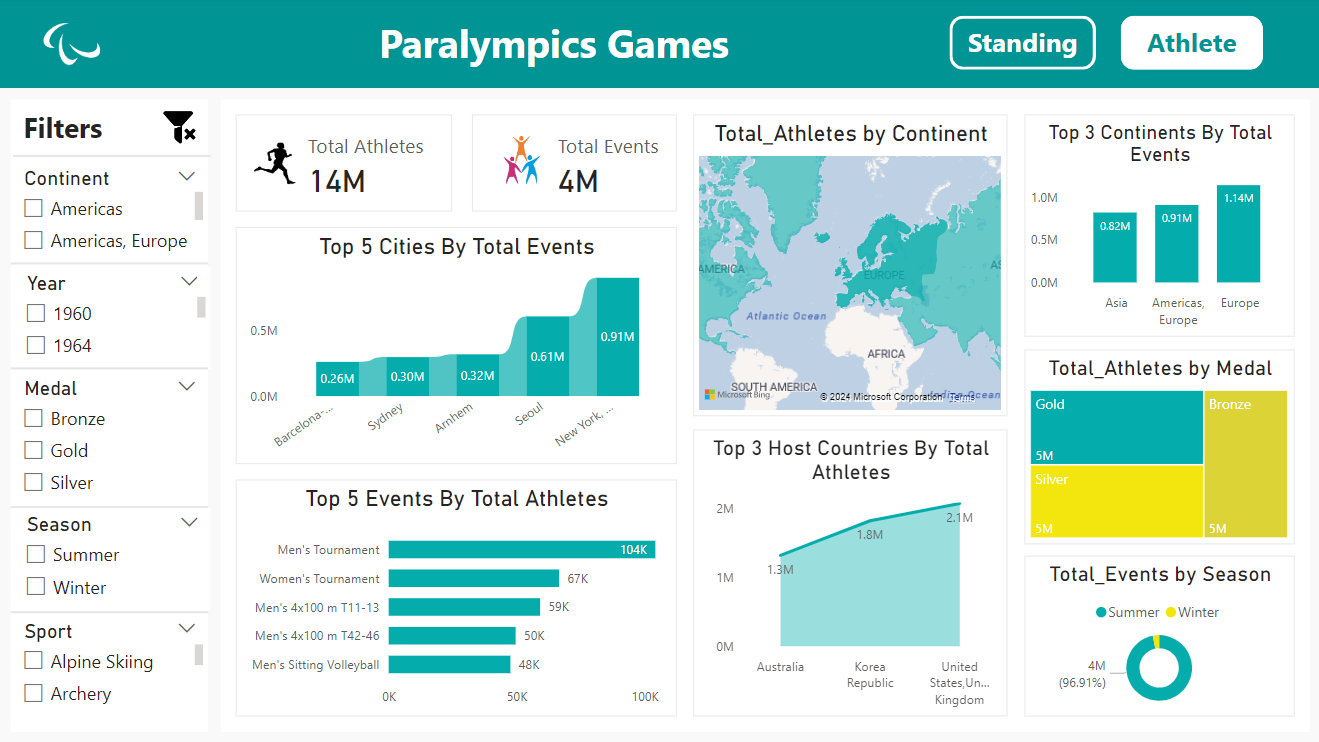

What the dashboard file says about the page in this screenshot:
{"tool":"powerbi","page":{"name":"Athlete","canvas":[1280,720],"ordinal":1},"visuals":[{"type":"shape","box":[0,0,1280.3,87.8],"z":0},{"type":"image","box":[0,0,141.3,87.8],"z":1000},{"type":"shape","box":[253.9,0,568.1,87.8],"z":2000},{"type":"shape","box":[13.7,98.8,190.7,610.6],"z":3000},{"type":"shape","box":[215.4,98.8,1051.1,610.6],"z":4000},{"type":"cardVisual","fields":{"Data":["Key_Measures.Total_Athletes"]},"box":[230.5,113.9,208.6,93.3],"z":5000},{"type":"cardVisual","fields":{"Data":["Key_Measures.Total_Events"]},"box":[458.3,113.9,197.6,93.3],"z":6000},{"type":"ribbonChart","title":"Top 5 Cities By Total Events","fields":{"Category":["dim_city.City"],"Y":["Key_Measures.Total_Events"]},"box":[230.5,222.3,425.4,229.2],"z":7000},{"type":"barChart","title":"Top 5 Events By Total Athletes","fields":{"Category":["fact_athlete.Event_name"],"Y":["Key_Measures.Total_Athletes"]},"box":[230.5,465.2,425.4,229.2],"z":8000},{"type":"textbox","box":[13.7,104.3,190.7,43.9],"z":9000},{"type":"shape","box":[15.1,131.7,190.7,32.9],"z":10000},{"type":"slicer","fields":{"Values":["dim_continent.Continent"]},"box":[13.7,159.2,190.7,98.8],"z":11000},{"type":"shape","box":[13.7,251.1,190.7,12.3],"z":12000},{"type":"slicer","fields":{"Values":["fact_athlete.Year"]},"box":[15.1,260.7,190.7,98.8],"z":13000},{"type":"slicer","fields":{"Values":["dim_medal.Medal"]},"box":[13.7,362.3,190.7,129],"z":14000},{"type":"shape","box":[13.7,352.7,190.7,12.3],"z":15000},{"type":"shape","box":[13.7,485.8,190.7,12.3],"z":16000},{"type":"slicer","fields":{"Values":["dim_season.Season"]},"box":[15.1,494,190.7,98.8],"z":17000},{"type":"shape","box":[13.7,587.3,190.7,12.3],"z":18000},{"type":"slicer","fields":{"Values":["dim_sport.Sport"]},"box":[13.7,595.5,190.7,98.8],"z":19000},{"type":"filledMap","fields":{"Category":["dim_continent.Continent"]},"box":[672.4,113.9,303.3,290.9],"z":20000},{"type":"areaChart","title":"Top 3 Host Countries By Total Athletes","fields":{"Category":["dim_host_country.Host_country"],"Y":["Key_Measures.Total_Athletes"]},"box":[672.4,417.2,303.3,277.2],"z":21000},{"type":"treemap","fields":{"Values":["Key_Measures.Total_Athletes"],"Group":["dim_medal.Medal"]},"box":[992.1,340.3,260.7,188],"z":22000},{"type":"donutChart","fields":{"Category":["dim_season.Season"],"Y":["Key_Measures.Total_Events"]},"box":[992.1,539.3,260.7,155.1],"z":23000},{"type":"columnChart","title":"Top 3 Continents By Total Events","fields":{"Category":["dim_continent.Continent"],"Y":["Key_Measures.Total_Events"]},"box":[992.1,113.9,260.7,214.1],"z":24000},{"type":"actionButton","box":[919.4,17.8,141.3,52.1],"z":25000},{"type":"actionButton","box":[1084.1,17.8,137.2,52.1],"z":26000},{"type":"image","box":[155.1,101.5,41.2,48],"z":27000}]}

Visuals, with their boxes in screenshot pixels (x1, y1, x2, y2), scaled from the page's 1280x720 canvas onto the 1319x742 screenshot:
shape: locate(0, 0, 1318, 90)
image: locate(0, 0, 146, 90)
shape: locate(262, 0, 847, 90)
shape: locate(14, 102, 211, 731)
shape: locate(222, 102, 1305, 731)
cardVisual - Key_Measures.Total_Athletes: locate(238, 117, 452, 214)
cardVisual - Key_Measures.Total_Events: locate(472, 117, 676, 214)
"Top 5 Cities By Total Events" ribbonChart: locate(238, 229, 676, 465)
"Top 5 Events By Total Athletes" barChart: locate(238, 479, 676, 716)
textbox: locate(14, 107, 211, 153)
shape: locate(16, 136, 212, 170)
slicer - dim_continent.Continent: locate(14, 164, 211, 266)
shape: locate(14, 259, 211, 271)
slicer - fact_athlete.Year: locate(16, 269, 212, 370)
slicer - dim_medal.Medal: locate(14, 373, 211, 506)
shape: locate(14, 363, 211, 376)
shape: locate(14, 501, 211, 513)
slicer - dim_season.Season: locate(16, 509, 212, 611)
shape: locate(14, 605, 211, 618)
slicer - dim_sport.Sport: locate(14, 614, 211, 716)
filledMap - dim_continent.Continent: locate(693, 117, 1005, 417)
"Top 3 Host Countries By Total Athletes" areaChart: locate(693, 430, 1005, 716)
treemap - Key_Measures.Total_Athletes x dim_medal.Medal: locate(1022, 351, 1291, 544)
donutChart - dim_season.Season x Key_Measures.Total_Events: locate(1022, 556, 1291, 716)
"Top 3 Continents By Total Events" columnChart: locate(1022, 117, 1291, 338)
actionButton: locate(947, 18, 1093, 72)
actionButton: locate(1117, 18, 1259, 72)
image: locate(160, 105, 202, 154)
